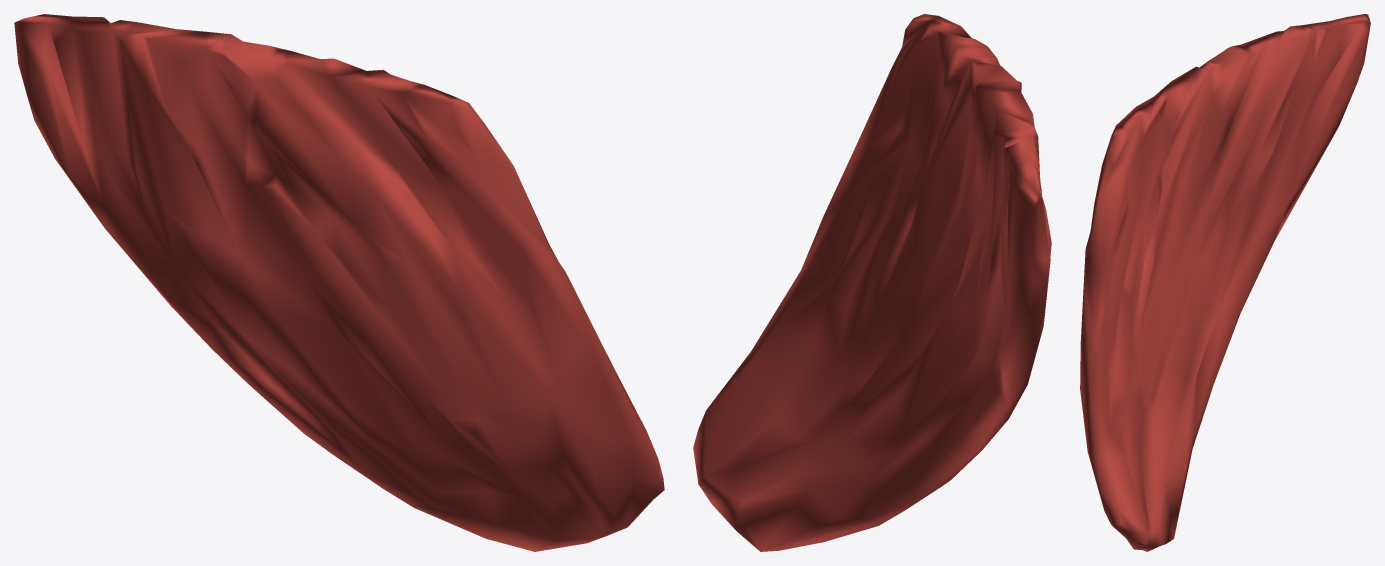
Rendered from musculos-straight-part-of-cricothyroid-muscle-r.glb.
3 renders of one model, left to right at view 1: azimuth 30°, elevation 25°; view 2: azimuth 150°, elevation 25°; view 3: azimuth 270°, elevation 25°, orthographic. The views are drawn at different scales.
Parts seen in each view (by area): view 1: Straight part of cricothyroid muscle.r; view 2: Straight part of cricothyroid muscle.r; view 3: Straight part of cricothyroid muscle.r.
Boxes of the visible parts, bbox=[...] form: Straight part of cricothyroid muscle.r: bbox=[14, 14, 664, 551]; Straight part of cricothyroid muscle.r: bbox=[693, 14, 1051, 551]; Straight part of cricothyroid muscle.r: bbox=[1080, 14, 1370, 551].
Bounding box in the file's own units: 0.00973 × 0.0103 × 0.00685.
